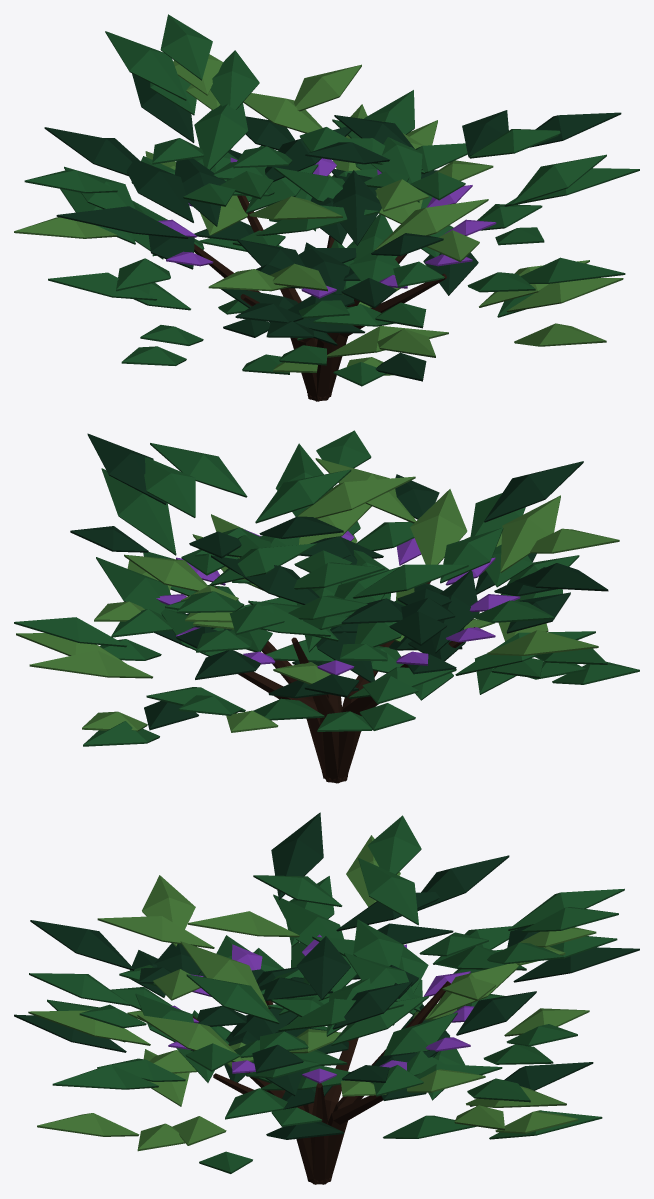
Rendered from Arbusto_florido_LOD0.fbx.
3 views of the same model, one above another, from view 1: azimuth 30°, elevation 25°; view 2: azimuth 150°, elevation 25°; view 3: azimuth 270°, elevation 25° (orthographic). The views are drawn at different scales.
Visible parts, largest first — view 1: Arbusto_florido_LOD0; view 2: Arbusto_florido_LOD0; view 3: Arbusto_florido_LOD0.
Part boxes in pixels (x1,y1,x2,y2): Arbusto_florido_LOD0: (14,14,639,401); Arbusto_florido_LOD0: (14,430,639,783); Arbusto_florido_LOD0: (14,812,639,1184).
Size of the model in its own units: 259 by 122 by 258.
1 material, 1 textured.
